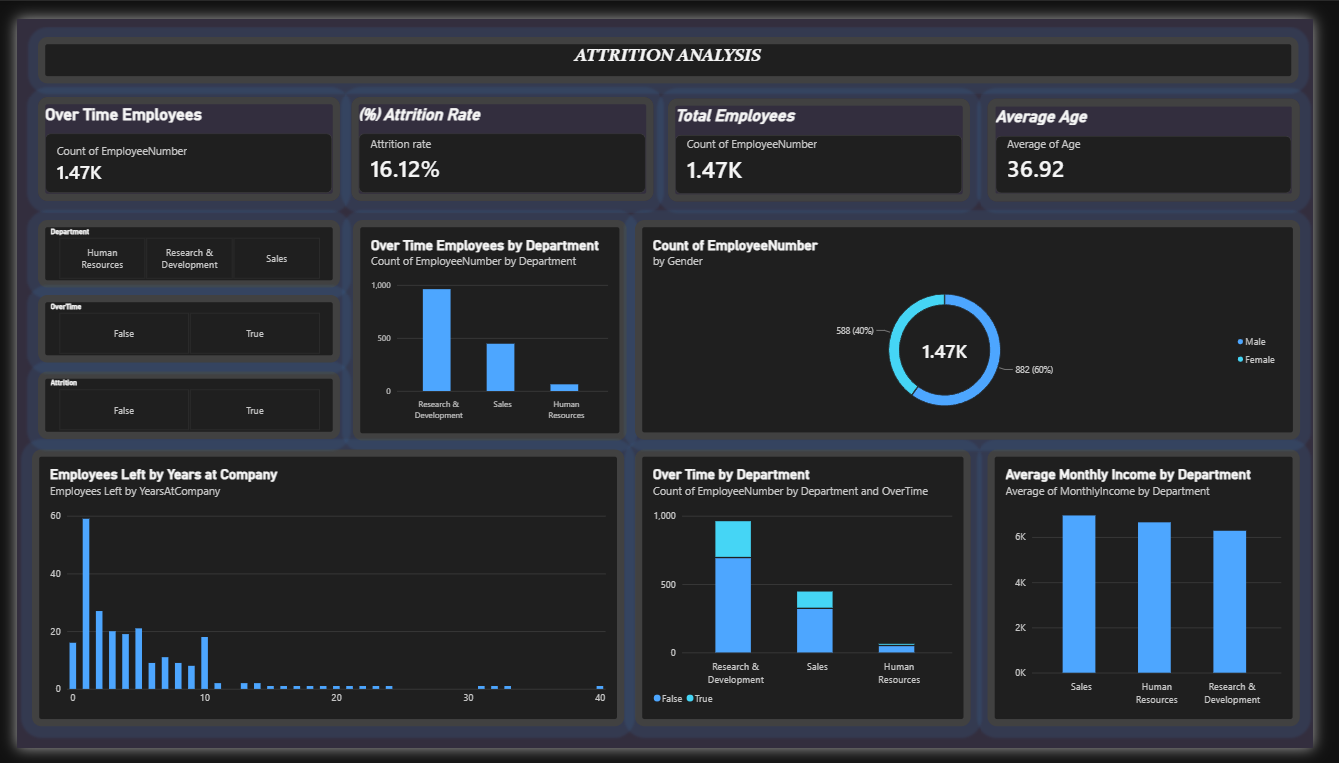

Layout of this report page (visuals, bound fields, positions):
{"tool":"powerbi","page":{"name":"Attrition Analysis","canvas":[1920,1080],"ordinal":1},"visuals":[{"type":"cardVisual","title":"Over Time Employees","fields":{"Data":["CountNonNull(hr_data.EmployeeNumber)"]},"box":[31.2,116.2,447.5,153.8],"z":0},{"type":"columnChart","title":"Over Time by Department","fields":{"Category":["hr_data.Department"],"Series":["hr_data.OverTime"],"Y":["CountNonNull(hr_data.EmployeeNumber)"]},"box":[915,637.5,497.5,410],"z":1000},{"type":"columnChart","title":"Average Monthly Income by Department","fields":{"Category":["hr_data.Department"],"Y":["Avg(hr_data.MonthlyIncome)"]},"box":[1437.5,637.5,462.5,410],"z":2000},{"type":"columnChart","title":"Over Time Employees by Department","fields":{"Category":["hr_data.Department"],"Y":["CountNonNull(hr_data.EmployeeNumber)"]},"box":[496.7,298.3,405,326.7],"z":3000},{"type":"textbox","box":[31.4,25.7,1867.1,68.6],"z":4000},{"type":"columnChart","title":"Employees Left by Years at Company","fields":{"Category":["hr_data.YearsAtCompany"],"Y":["hr_data.Employees Left"]},"box":[22.5,637.5,877.5,410],"z":5000},{"type":"donutChart","fields":{"Category":["hr_data.Gender"],"Y":["CountNonNull(hr_data.EmployeeNumber)"]},"box":[915,297.5,985,325],"z":8000},{"type":"slicer","fields":{"Values":["hr_data.Department"]},"box":[31.4,297.1,447.1,100],"z":9000},{"type":"slicer","fields":{"Values":["hr_data.Attrition"]},"box":[32,522,447.1,100],"z":10000},{"type":"slicer","fields":{"Values":["hr_data.OverTime"]},"box":[32,408,447.1,100],"z":11000},{"type":"cardVisual","title":"(%) Attrition Rate","fields":{"Data":["hr_data.Attrition rate"]},"box":[496.2,116.2,447.5,153.8],"z":11001},{"type":"cardVisual","title":"Average Age","fields":{"Data":["Avg(hr_data.Age)"]},"box":[1437.5,117.5,462.5,152.5],"z":11002},{"type":"cardVisual","title":"Total Employees","fields":{"Data":["Count(hr_data.EmployeeNumber)"]},"box":[965,117.5,447.5,152.5],"z":11003}]}

Visuals, with their boxes in screenshot pixels (x1, y1, x2, y2), scaled from the page's 1920x1080 canvas onto the 1339x763 screenshot:
"Over Time Employees" cardVisual: (22,82,334,191)
"Over Time by Department" columnChart: (638,450,985,740)
"Average Monthly Income by Department" columnChart: (1003,450,1325,740)
"Over Time Employees by Department" columnChart: (346,211,629,442)
textbox: (22,18,1324,67)
"Employees Left by Years at Company" columnChart: (16,450,628,740)
donutChart - hr_data.Gender x CountNonNull(hr_data.EmployeeNumber): (638,210,1325,440)
slicer - hr_data.Department: (22,210,334,281)
slicer - hr_data.Attrition: (22,369,334,439)
slicer - hr_data.OverTime: (22,288,334,359)
"(%) Attrition Rate" cardVisual: (346,82,658,191)
"Average Age" cardVisual: (1003,83,1325,191)
"Total Employees" cardVisual: (673,83,985,191)
